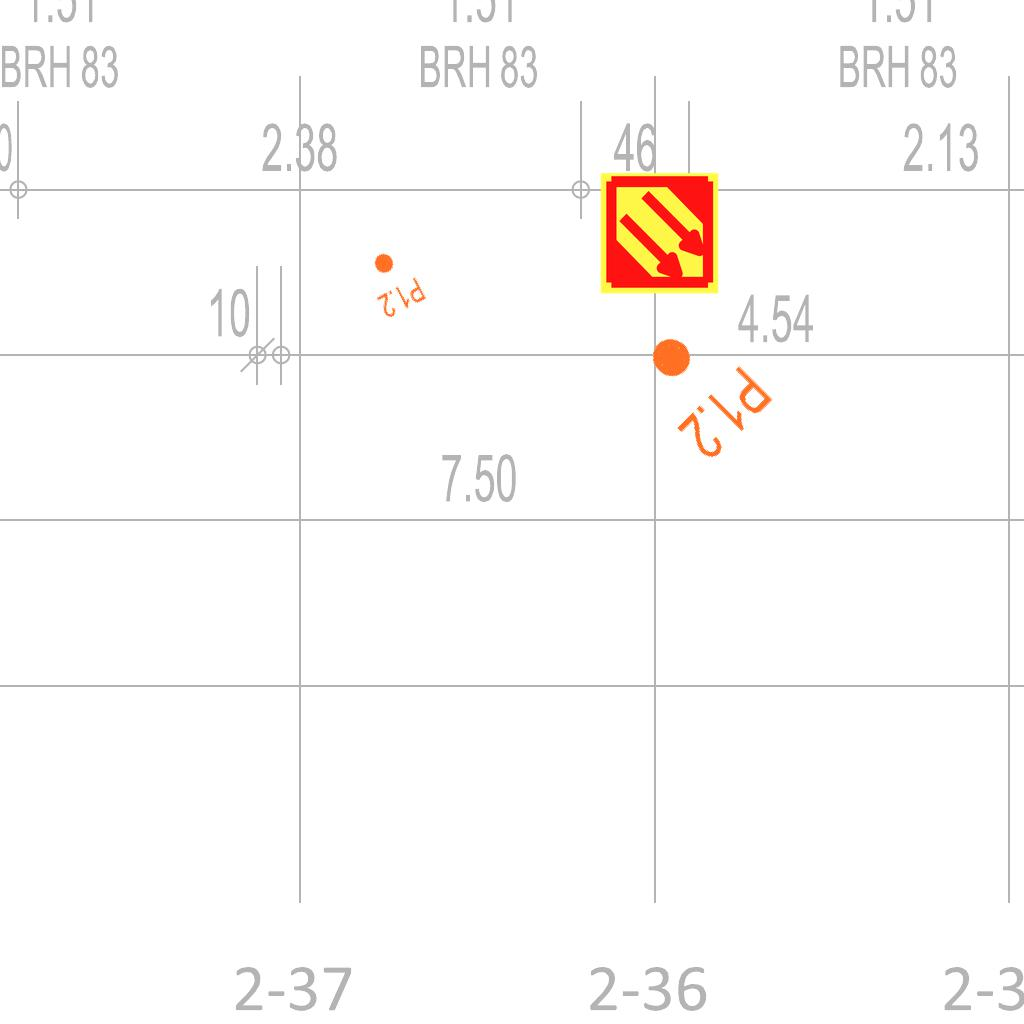ASR_Ansaugrauchmelder: (597, 171, 722, 296)
Downlight_LED_Einbauleuchten_Flur: (621, 309, 778, 467), (357, 242, 429, 322)
